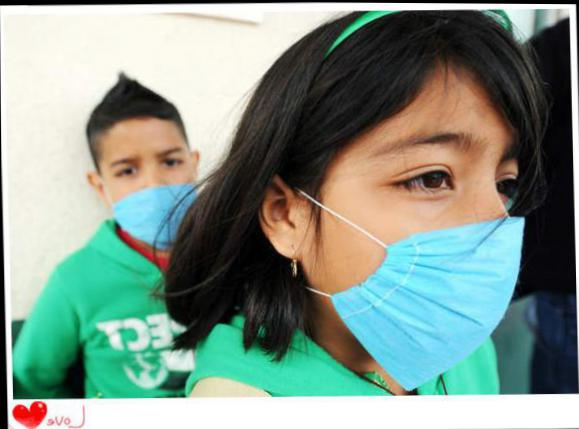OK: (282, 127, 531, 380)
WRONG: (101, 137, 203, 245)
